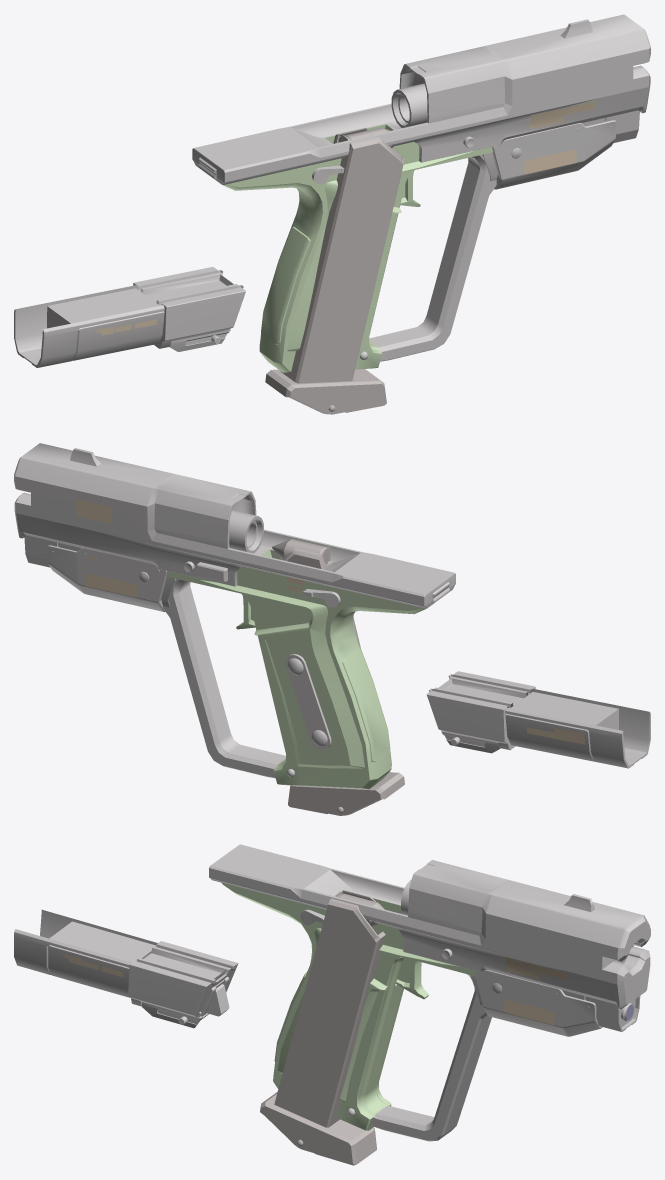
The picture shows the model from 3 angles, top to bottom: view 1: azimuth 30°, elevation 25°; view 2: azimuth 150°, elevation 25°; view 3: azimuth 330°, elevation 25°; orthographic projection. The views are drawn at different scales.
Visible parts, largest first — view 1: M6C, M6C Magazine 1, M6C Slide; view 2: M6C, M6C Slide, M6C Magazine 1; view 3: M6C, M6C Magazine 1, M6C Slide.
Boxes of the visible parts, bbox=[...] form: M6C: bbox=[192, 14, 650, 372]; M6C Magazine 1: bbox=[265, 127, 403, 414]; M6C Slide: bbox=[14, 267, 245, 367]; M6C: bbox=[14, 443, 455, 789]; M6C Slide: bbox=[426, 671, 650, 768]; M6C Magazine 1: bbox=[272, 539, 404, 815]; M6C: bbox=[209, 844, 650, 1141]; M6C Magazine 1: bbox=[260, 890, 385, 1165]; M6C Slide: bbox=[14, 909, 238, 1028].
Size of the model in its own units: 32.53 by 15.83 by 4.18.
